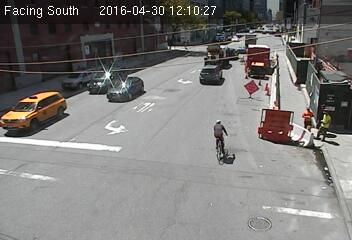neg: (195, 115, 238, 171), (102, 10, 120, 34), (252, 173, 269, 196), (187, 25, 201, 44), (252, 133, 261, 146)
pos: (314, 109, 335, 138), (313, 101, 334, 129), (298, 105, 316, 129)
